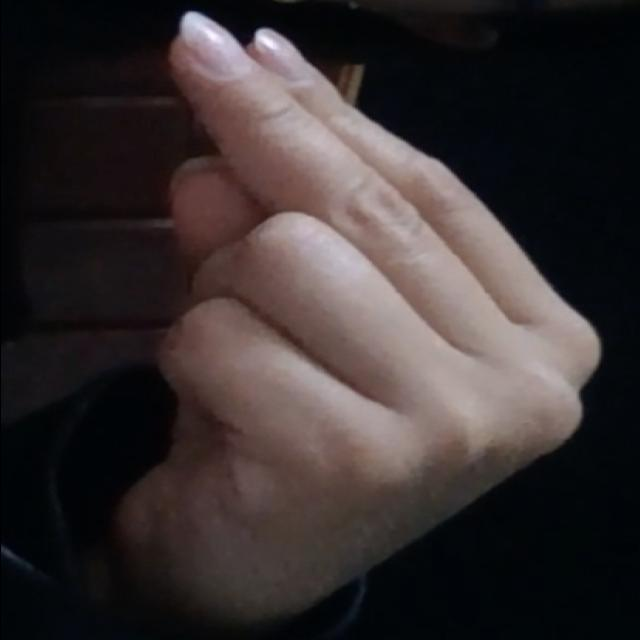N: (84, 9, 610, 584)
